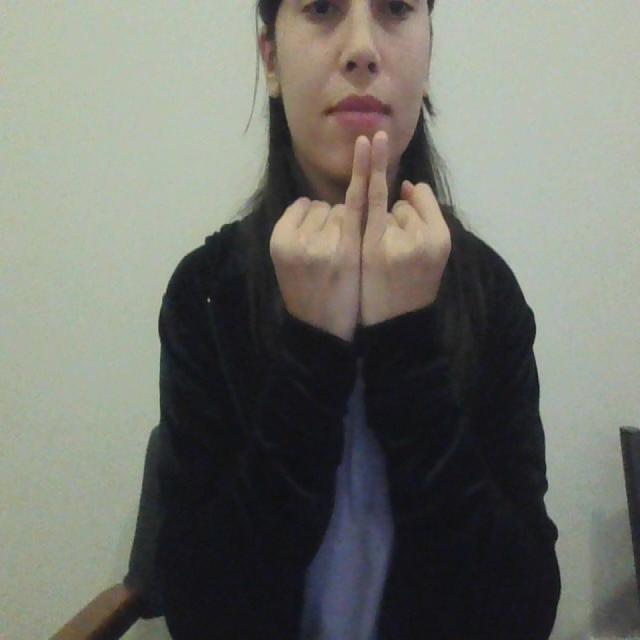Kardes: (264, 126, 456, 358)
